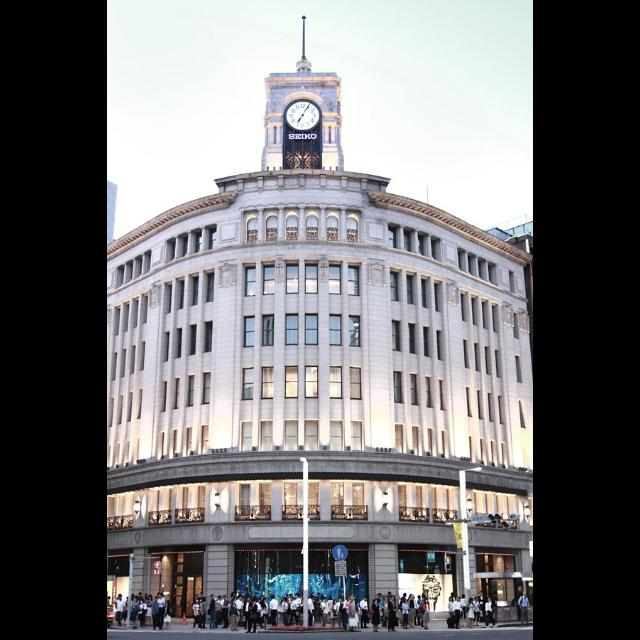head: (238, 596, 245, 602), (134, 597, 140, 603), (140, 599, 146, 605), (166, 600, 172, 606), (210, 594, 216, 600), (232, 599, 238, 605), (322, 598, 328, 604), (364, 596, 370, 602), (374, 599, 380, 605), (390, 596, 396, 602), (519, 587, 525, 593), (118, 594, 124, 600), (158, 594, 164, 598), (196, 594, 200, 600), (200, 592, 204, 598), (224, 596, 228, 602), (232, 592, 236, 598), (248, 598, 252, 604), (252, 599, 256, 605), (261, 600, 265, 606), (284, 597, 288, 603), (290, 596, 294, 602), (346, 596, 350, 602), (389, 592, 393, 598), (404, 598, 408, 604), (411, 594, 415, 600), (423, 596, 427, 602), (426, 598, 430, 604), (456, 596, 460, 602), (471, 598, 475, 604), (488, 598, 492, 604), (494, 591, 498, 597), (524, 592, 528, 598), (108, 596, 112, 600), (138, 592, 142, 596), (148, 596, 152, 600), (149, 596, 153, 600), (154, 598, 158, 602), (196, 600, 200, 604), (214, 598, 218, 602), (261, 596, 265, 600), (264, 599, 268, 603), (271, 595, 275, 599), (284, 598, 288, 602), (296, 594, 300, 598), (312, 596, 316, 600), (318, 595, 322, 599), (333, 601, 337, 605), (339, 598, 343, 602), (382, 595, 386, 599), (404, 593, 408, 597), (401, 601, 405, 605), (419, 596, 423, 600), (450, 597, 454, 601), (462, 595, 466, 599), (475, 598, 479, 602), (480, 592, 484, 596), (203, 598, 207, 602), (126, 598, 130, 600), (132, 594, 134, 598)
person: (339, 595, 353, 633), (128, 595, 142, 631), (245, 598, 259, 634), (368, 598, 382, 634), (518, 592, 532, 628), (334, 596, 348, 630), (477, 591, 491, 625), (112, 593, 126, 627), (388, 595, 400, 633), (253, 598, 267, 630), (277, 594, 291, 626), (287, 596, 301, 628), (485, 597, 499, 629), (207, 597, 220, 631), (192, 594, 204, 630), (220, 594, 232, 630), (230, 591, 242, 627), (516, 586, 528, 622), (243, 597, 255, 631), (268, 595, 280, 629), (452, 596, 463, 630), (150, 596, 160, 630), (192, 597, 202, 631), (230, 599, 240, 633), (235, 594, 245, 628), (282, 596, 292, 630), (421, 595, 431, 629), (448, 596, 458, 630), (490, 590, 500, 624), (200, 596, 210, 630), (136, 592, 148, 620), (157, 592, 166, 628), (138, 598, 148, 630), (144, 592, 154, 624), (320, 596, 330, 628), (360, 596, 370, 628), (388, 591, 398, 623), (398, 596, 408, 628), (328, 600, 339, 628), (399, 592, 408, 626), (163, 600, 173, 630), (472, 596, 482, 626), (402, 597, 411, 629), (409, 593, 417, 629), (468, 597, 477, 629), (146, 594, 154, 628), (198, 592, 206, 626), (294, 594, 302, 626), (314, 592, 322, 624), (423, 598, 431, 630), (378, 594, 387, 622), (307, 596, 315, 626), (460, 594, 468, 624), (130, 593, 138, 621), (210, 594, 222, 612), (124, 596, 132, 622), (263, 598, 271, 624), (260, 594, 266, 626), (418, 596, 424, 626), (108, 596, 114, 616)
